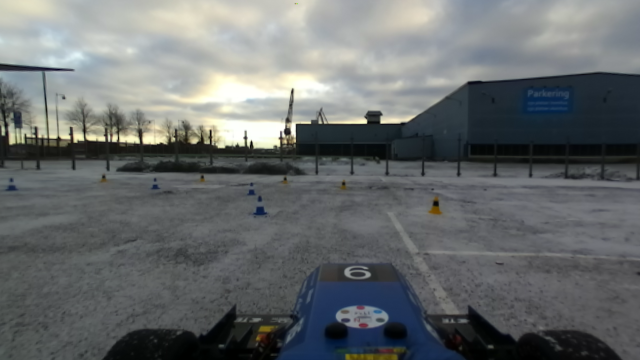blue: (251, 192, 269, 218)
yellow: (427, 195, 443, 215)
